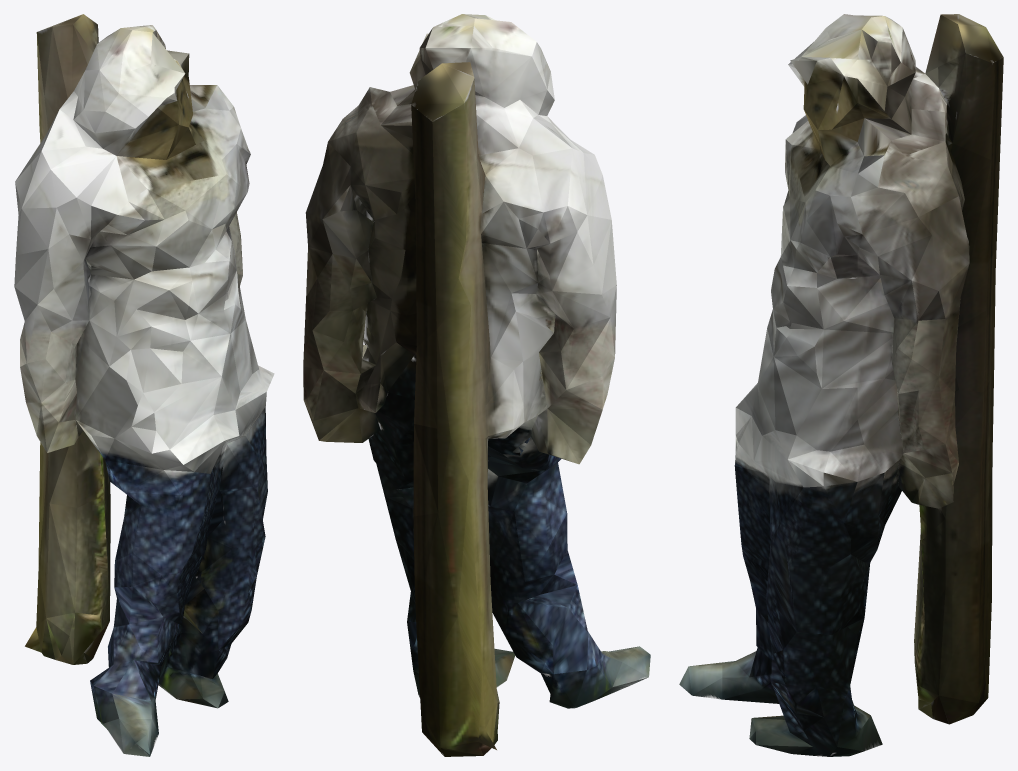
Rendered from kakashi_01b.fbx.
3 views of the same model, side by side, from view 1: azimuth 30°, elevation 25°; view 2: azimuth 150°, elevation 25°; view 3: azimuth 270°, elevation 25° (orthographic). The views are drawn at different scales.
Visible parts, largest first — view 1: MeshS; view 2: MeshS; view 3: MeshS.
Boxes of the visible parts, x1,y1,x2,y2 form: MeshS: (14, 14, 274, 756); MeshS: (303, 14, 650, 756); MeshS: (679, 14, 1003, 756).
Bounding box in the file's own units: 10.24 × 25.88 × 10.64.
Materials: 1 (1 with a texture image).
